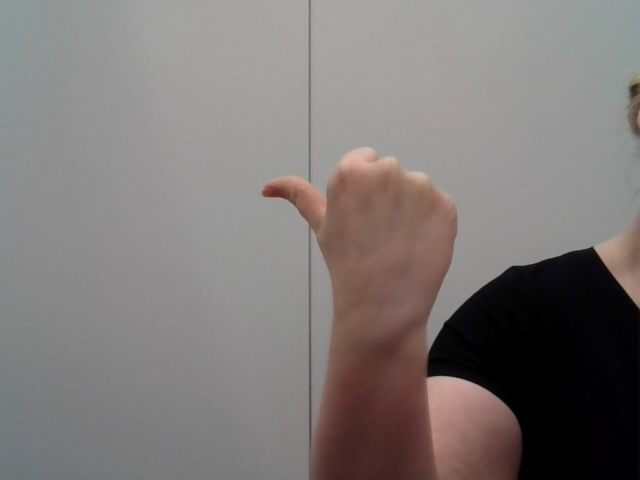right: (256, 124, 479, 378)
